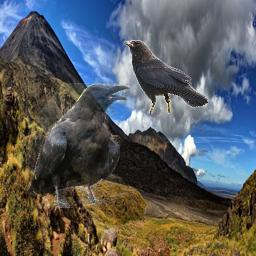Crow: (26, 83, 131, 208), (123, 40, 209, 114)
